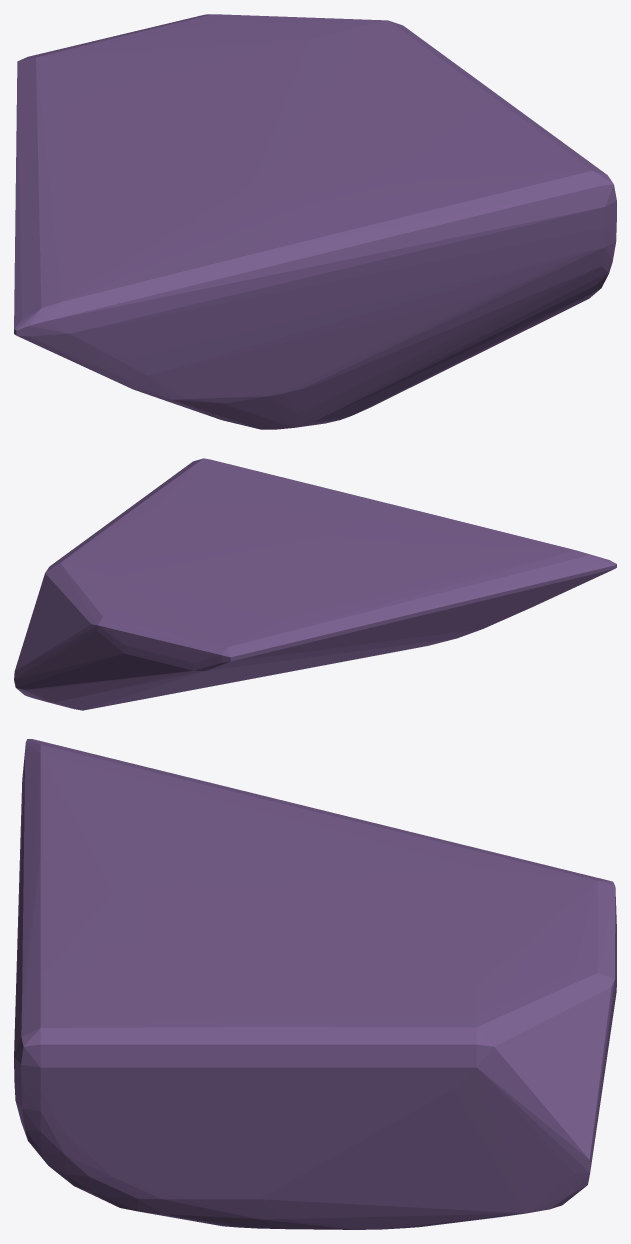
Rendered from right-shin-0_part_1.obj.
3 renders of one model, top to bottom at view 1: azimuth 30°, elevation 25°; view 2: azimuth 150°, elevation 25°; view 3: azimuth 270°, elevation 25°, orthographic. The views are drawn at different scales.
Size of the model in its own units: 0.0734 by 0.0247 by 0.0596.
